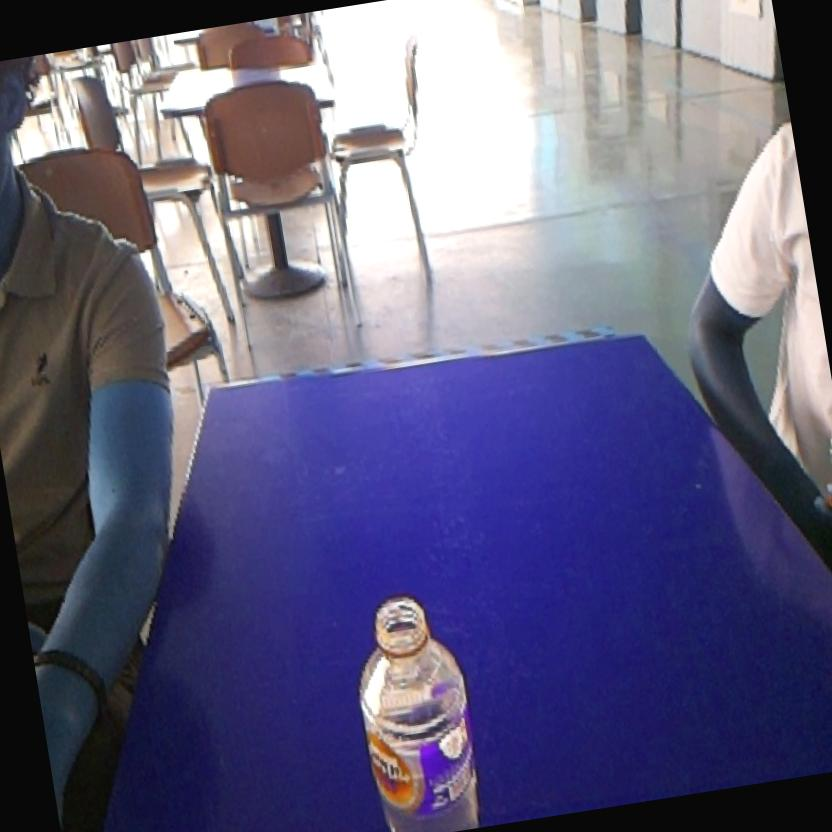no_cap: (327, 573, 496, 832)
